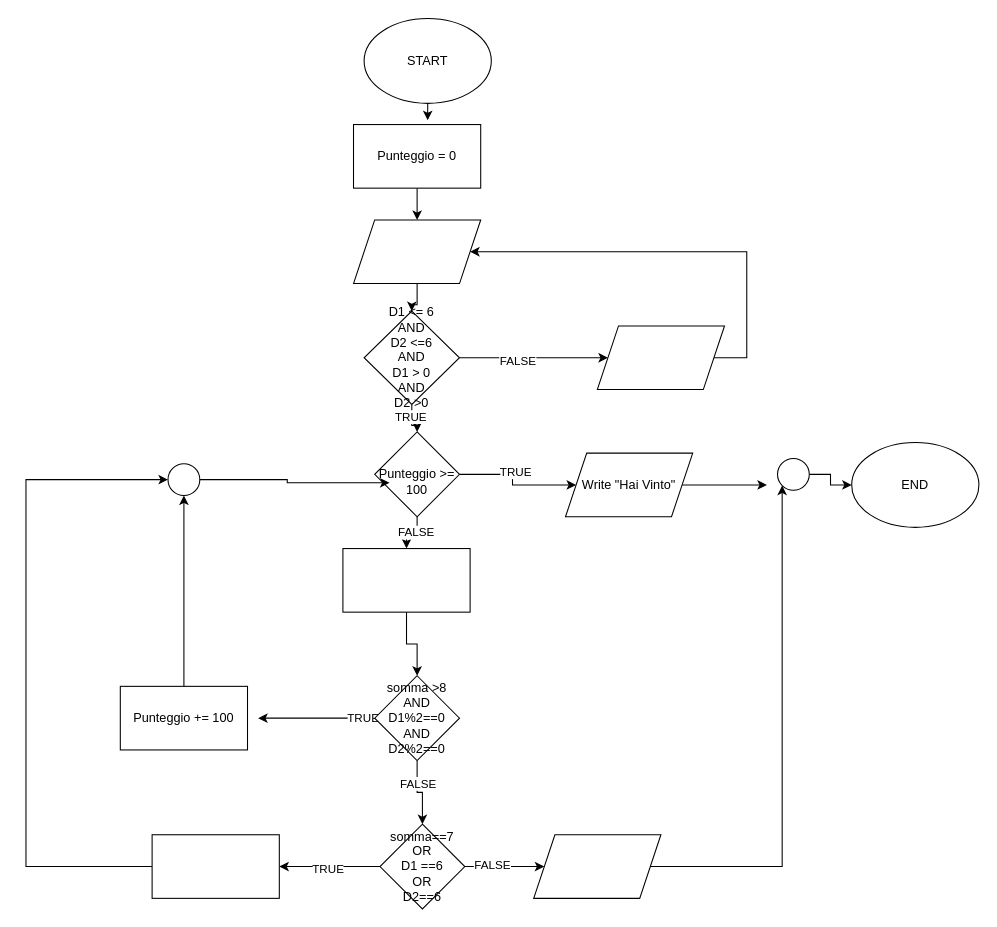
Image size: 997x927. Some labels were removed from this diagram. Here are the shapes that lost their labels. From the top down, the centre of each, then its label:
[416,251]: Read D1, D2
[660,357]: Write "errore"
[406,579]: somma = D1+D2
[215,866]: Punteggio += 10
[597,866]: Write "Hai perso"
